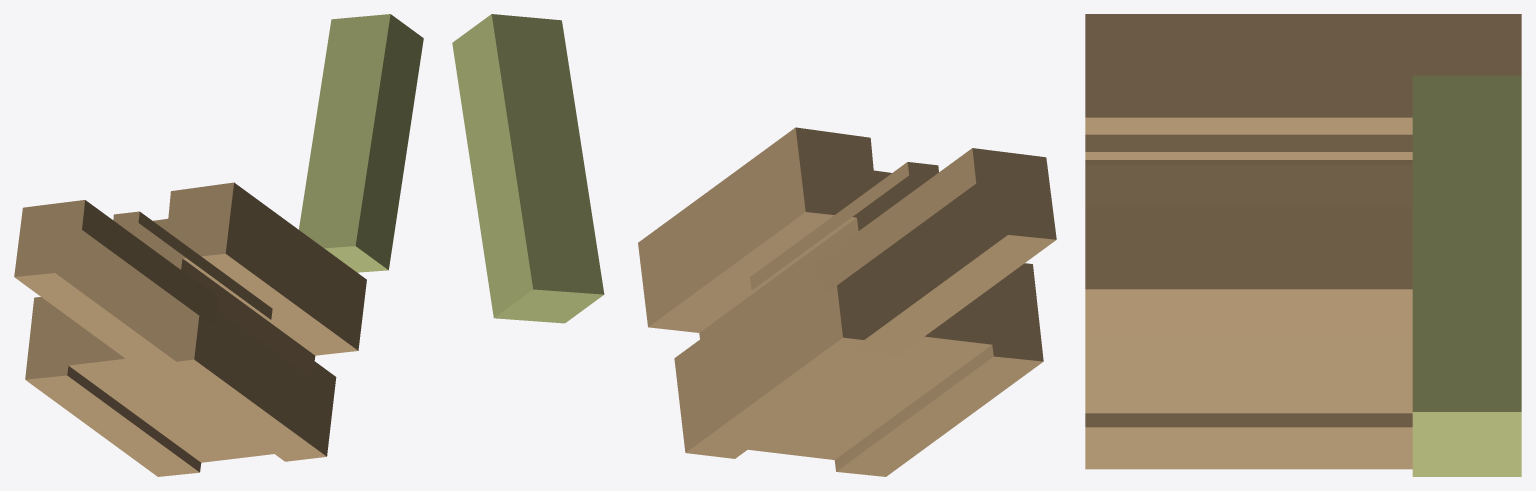
3 renders of one model, left to right at view 1: azimuth 30°, elevation 25°; view 2: azimuth 150°, elevation 25°; view 3: azimuth 270°, elevation 25°, orthographic. The views are drawn at different scales.
Visible parts, largest first — view 1: 0_1_0_0_0_1_1_2_1; view 2: 0_1_0_0_0_1_1_2_1; view 3: 0_1_0_0_0_1_1_2_1.
Part boxes in pixels (box(x1,y1,x2,y2)): 0_1_0_0_0_1_1_2_1: box(14, 14, 423, 476); 0_1_0_0_0_1_1_2_1: box(452, 14, 1056, 476); 0_1_0_0_0_1_1_2_1: box(1085, 14, 1521, 476).
Size of the model in its own units: 39.27 by 30.58 by 24.
